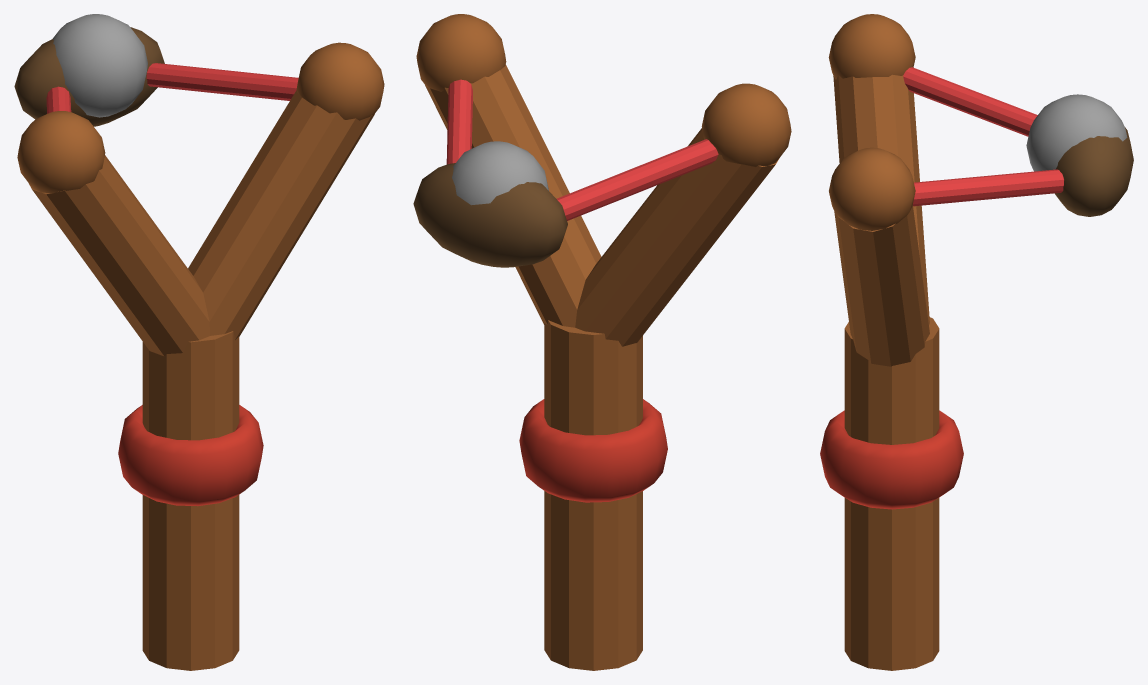
3 renders of one model, left to right at view 1: azimuth 30°, elevation 25°; view 2: azimuth 150°, elevation 25°; view 3: azimuth 270°, elevation 25°, orthographic. The views are drawn at different scales.
Parts seen in each view (by area): view 1: W01; view 2: W01; view 3: W01.
Part boxes in pixels (x1=…): W01: x1=14, y1=14, x2=384, y2=670; W01: x1=413, y1=14, x2=791, y2=670; W01: x1=820, y1=14, x2=1133, y2=670.
Size of the model in its own units: 1.02 by 1.58 by 0.794.
1 material, 1 textured.
